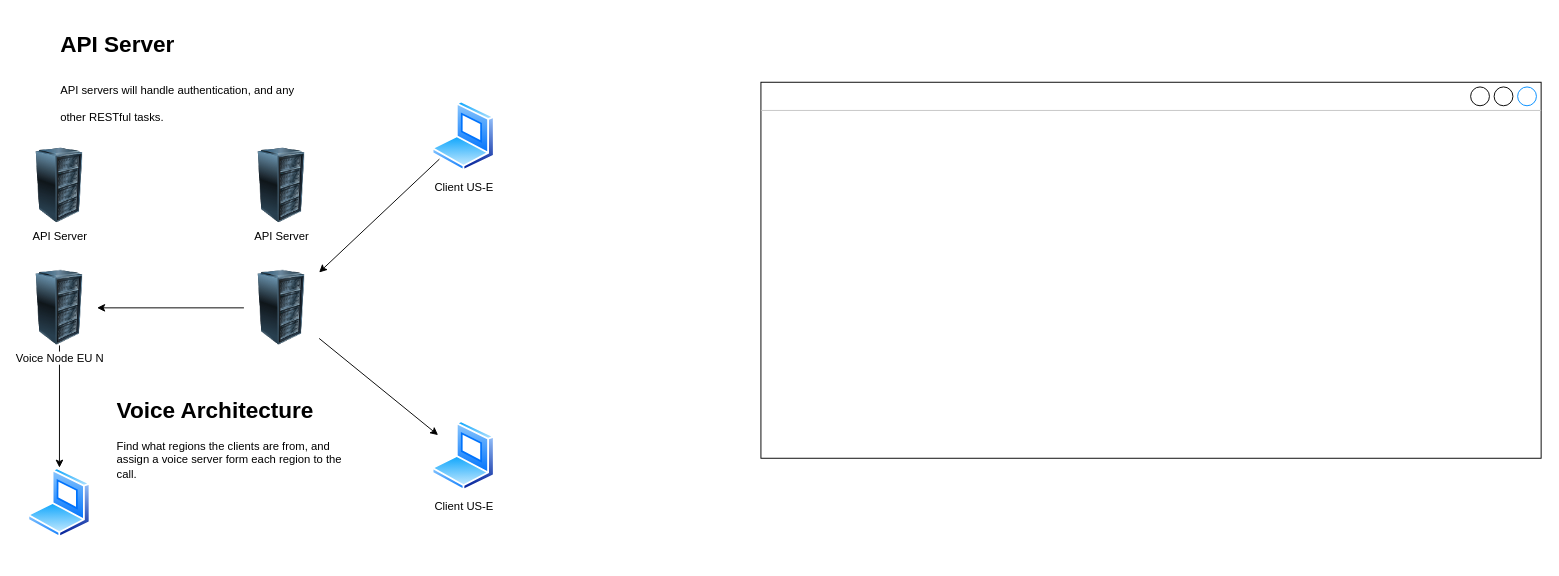
Some shapes in this 1559 by 576 pixel diagram are drawn without their labels. Each missing label, with the box of its shape:
Client EU N: (27, 467, 91, 538)
Voice Node US-E: (243, 270, 319, 345)
Window Title: (760, 81, 1541, 458)
